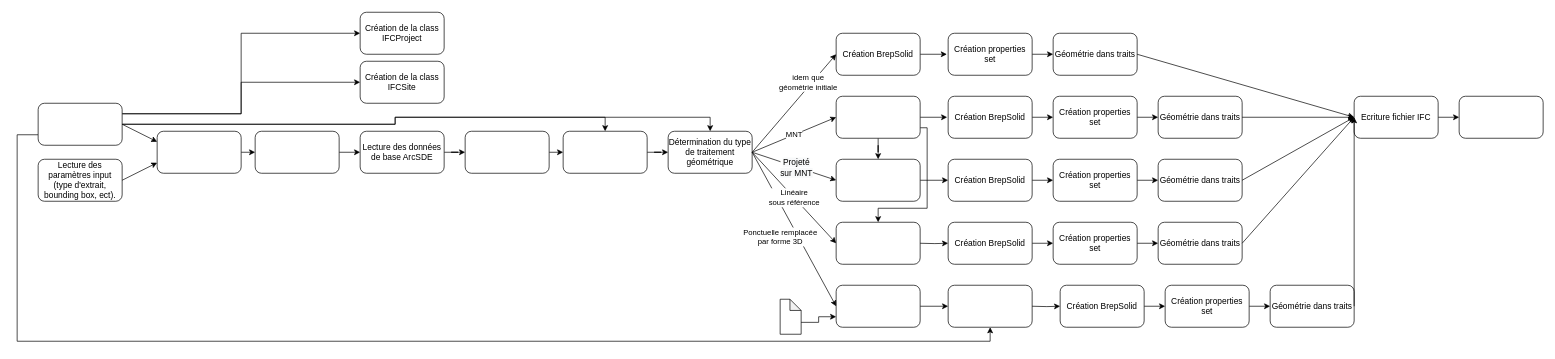
The diagram is 1555 pixels wide and 359 high, and some of its shapes have lost their labels. The shapes that lost their labels are listed below. From the top down, each one's box as (x1, y1, x2, y2) in pixels, then its label:
(37, 103, 122, 145): Lecture du fichier de configuration
(835, 96, 920, 138): TIN depuis Raster
(1458, 96, 1543, 138): Post-traitement python
(156, 131, 241, 173): Création du pset
(254, 131, 339, 173): Définition du pset
(464, 131, 549, 173): Création de la hiérarchie entre les objets
(562, 131, 647, 173): Création de la couleur des objets
(835, 159, 920, 201): Drapping
(835, 222, 920, 264): Offset par rapport à référence ou création 3D
(835, 285, 920, 327): Remplacement géométrie par autre modèle 3D
(947, 285, 1032, 327): Echelle (config ou attribut)
